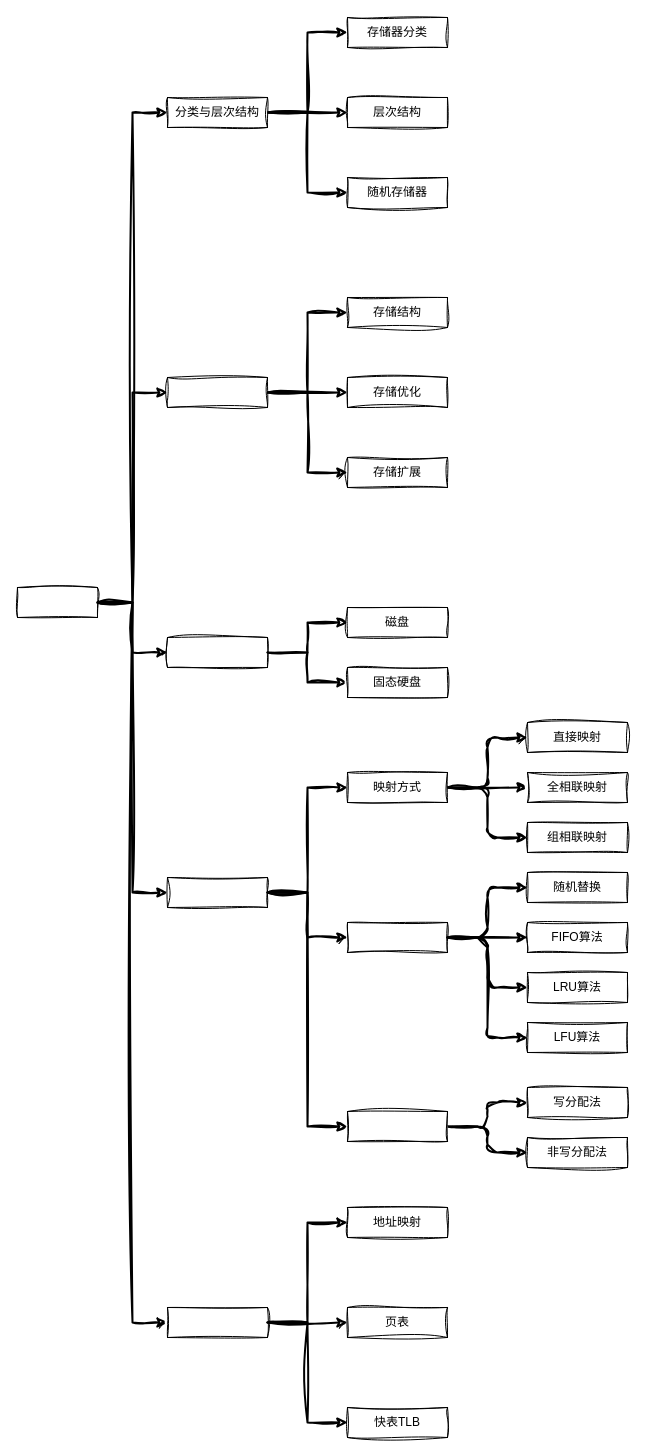
This 645x1455 diagram has some shape labels left out. The centre of each missing label's shape, as x and y in pixels:
cache缓存: pixel 217 892
主存: pixel 217 392
写策略: pixel 397 1126
存储器: pixel 57 602
替换算法: pixel 397 937
虚拟存储器-页式: pixel 217 1322
辅存: pixel 217 652
